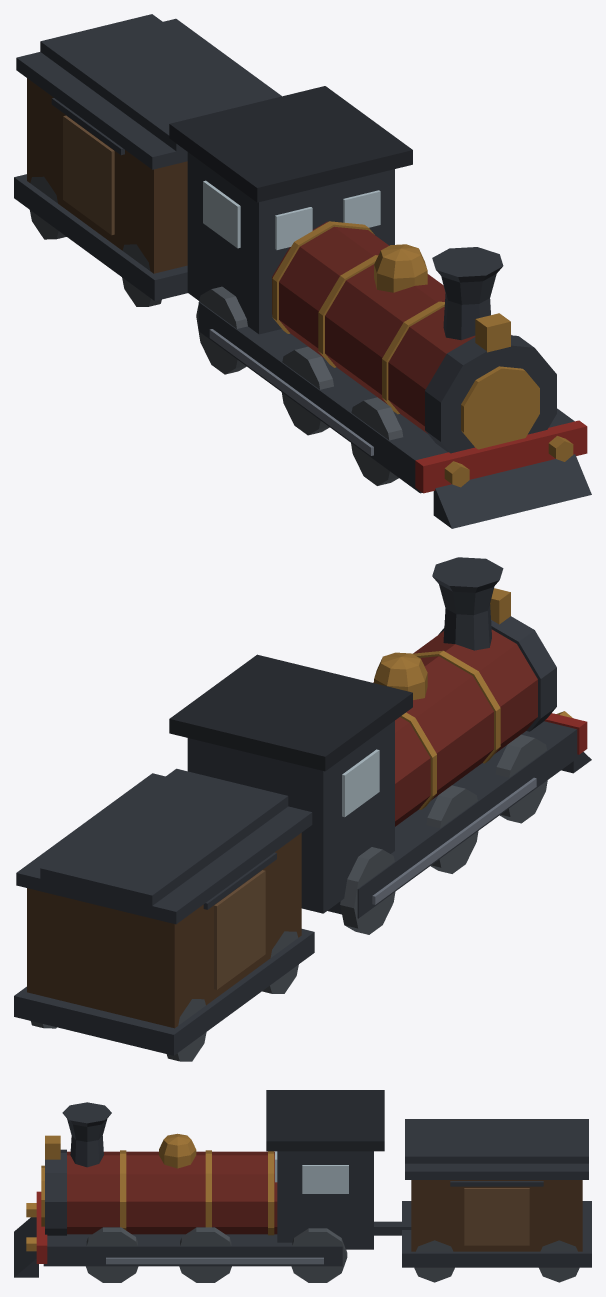
File: train.glb
3 views of the same model, one above another, from view 1: azimuth 30°, elevation 25°; view 2: azimuth 150°, elevation 25°; view 3: azimuth 270°, elevation 25° (orthographic). The views are drawn at different scales.
Visible parts, largest first — view 1: train; view 2: train; view 3: train.
Boxes of the visible parts, left/top/right/bottom form: train: left=14, top=14, right=591, bottom=528; train: left=14, top=557, right=591, bottom=1061; train: left=14, top=1090, right=591, bottom=1282.
Size of the model in its own units: 0.8292 by 1.03 by 3.71.
